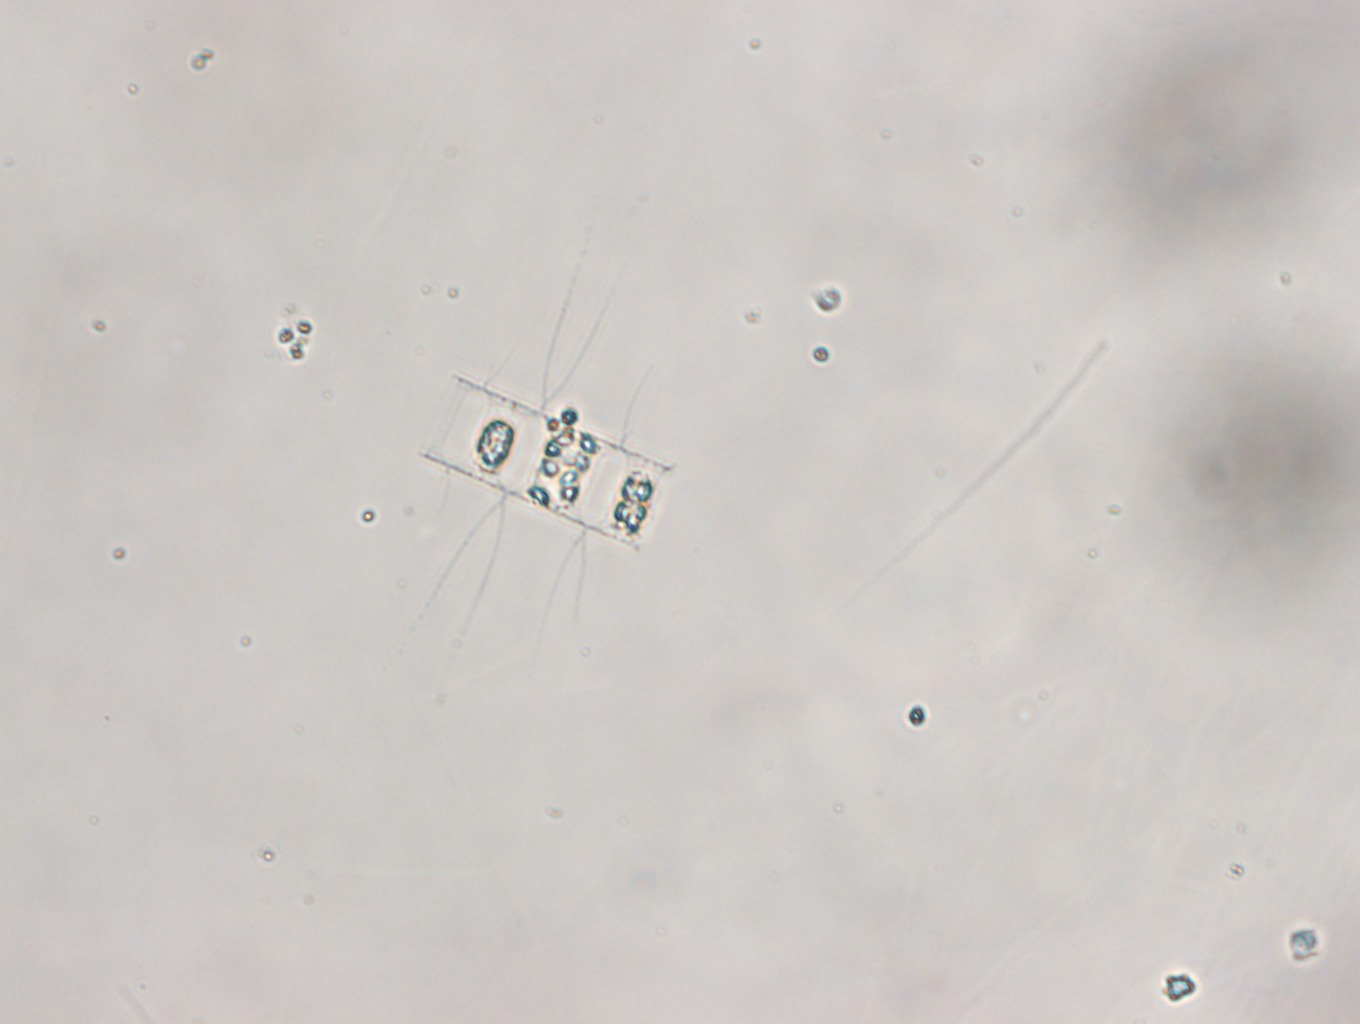chaetoceros: (418, 232, 670, 652)
